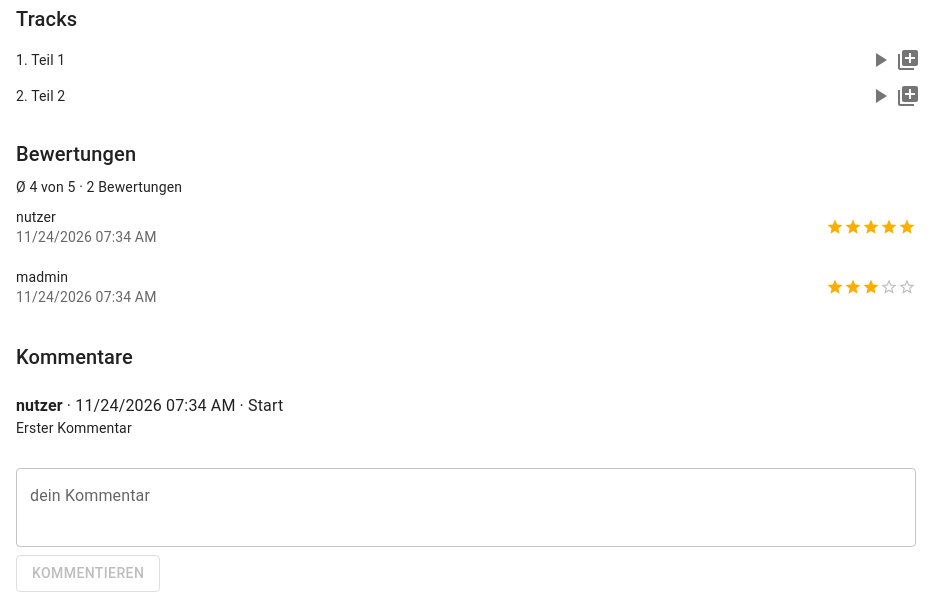
Test case: Kommentar absenden leert das Feld
(page scrolled)
Type "  Neuer Kommentar " into the text box with test id "comment-input".
click(466, 508); type("  Neuer Kommentar ")  # box [30, 485, 902, 531]
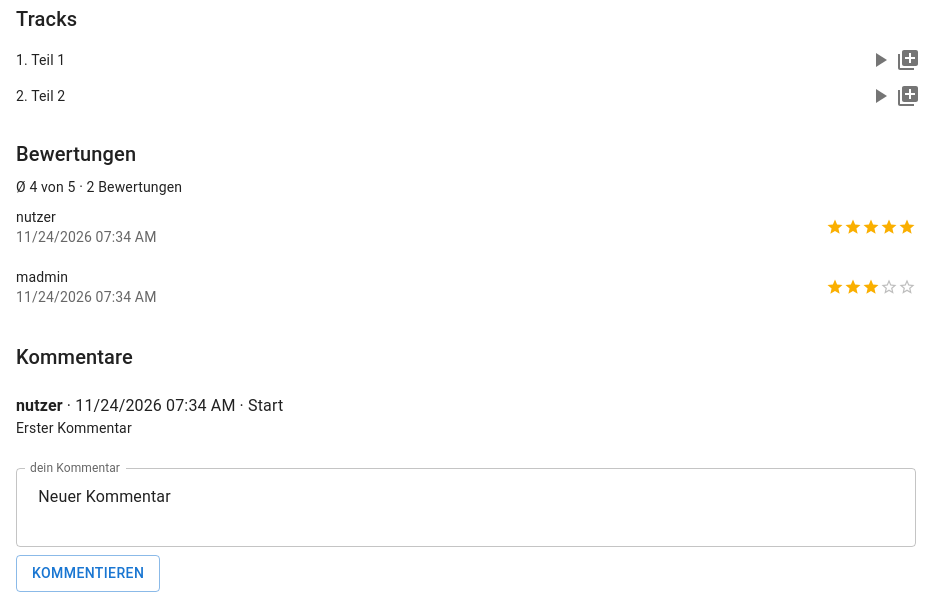
Click the button "Kommentieren".
click(88, 573)  # box [16, 555, 160, 592]
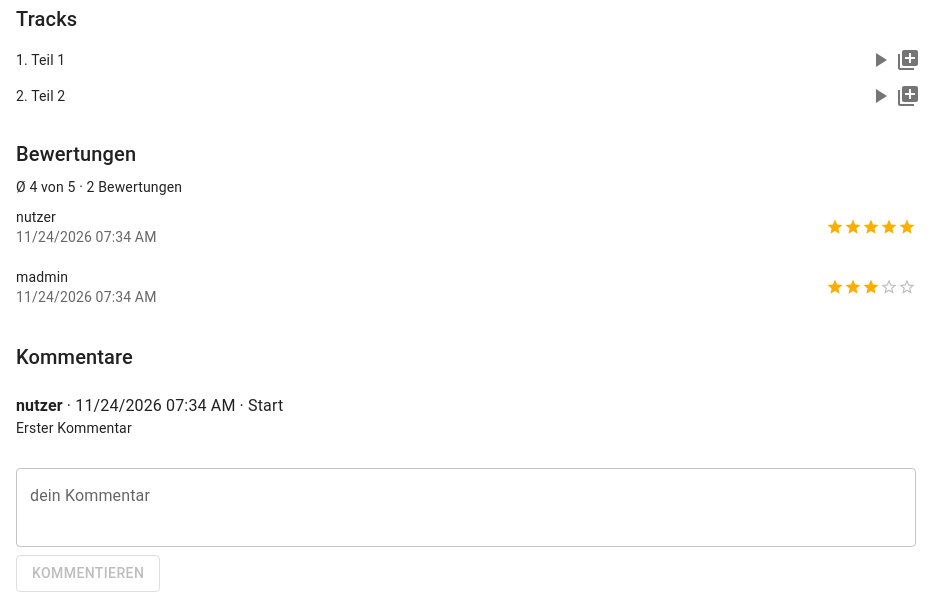
Expected: the text box with test id "comment-input" is empty, [30, 485, 902, 531]
